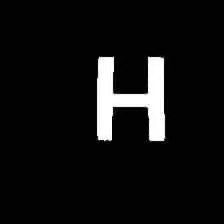LTR_H: (91, 47, 168, 144)
